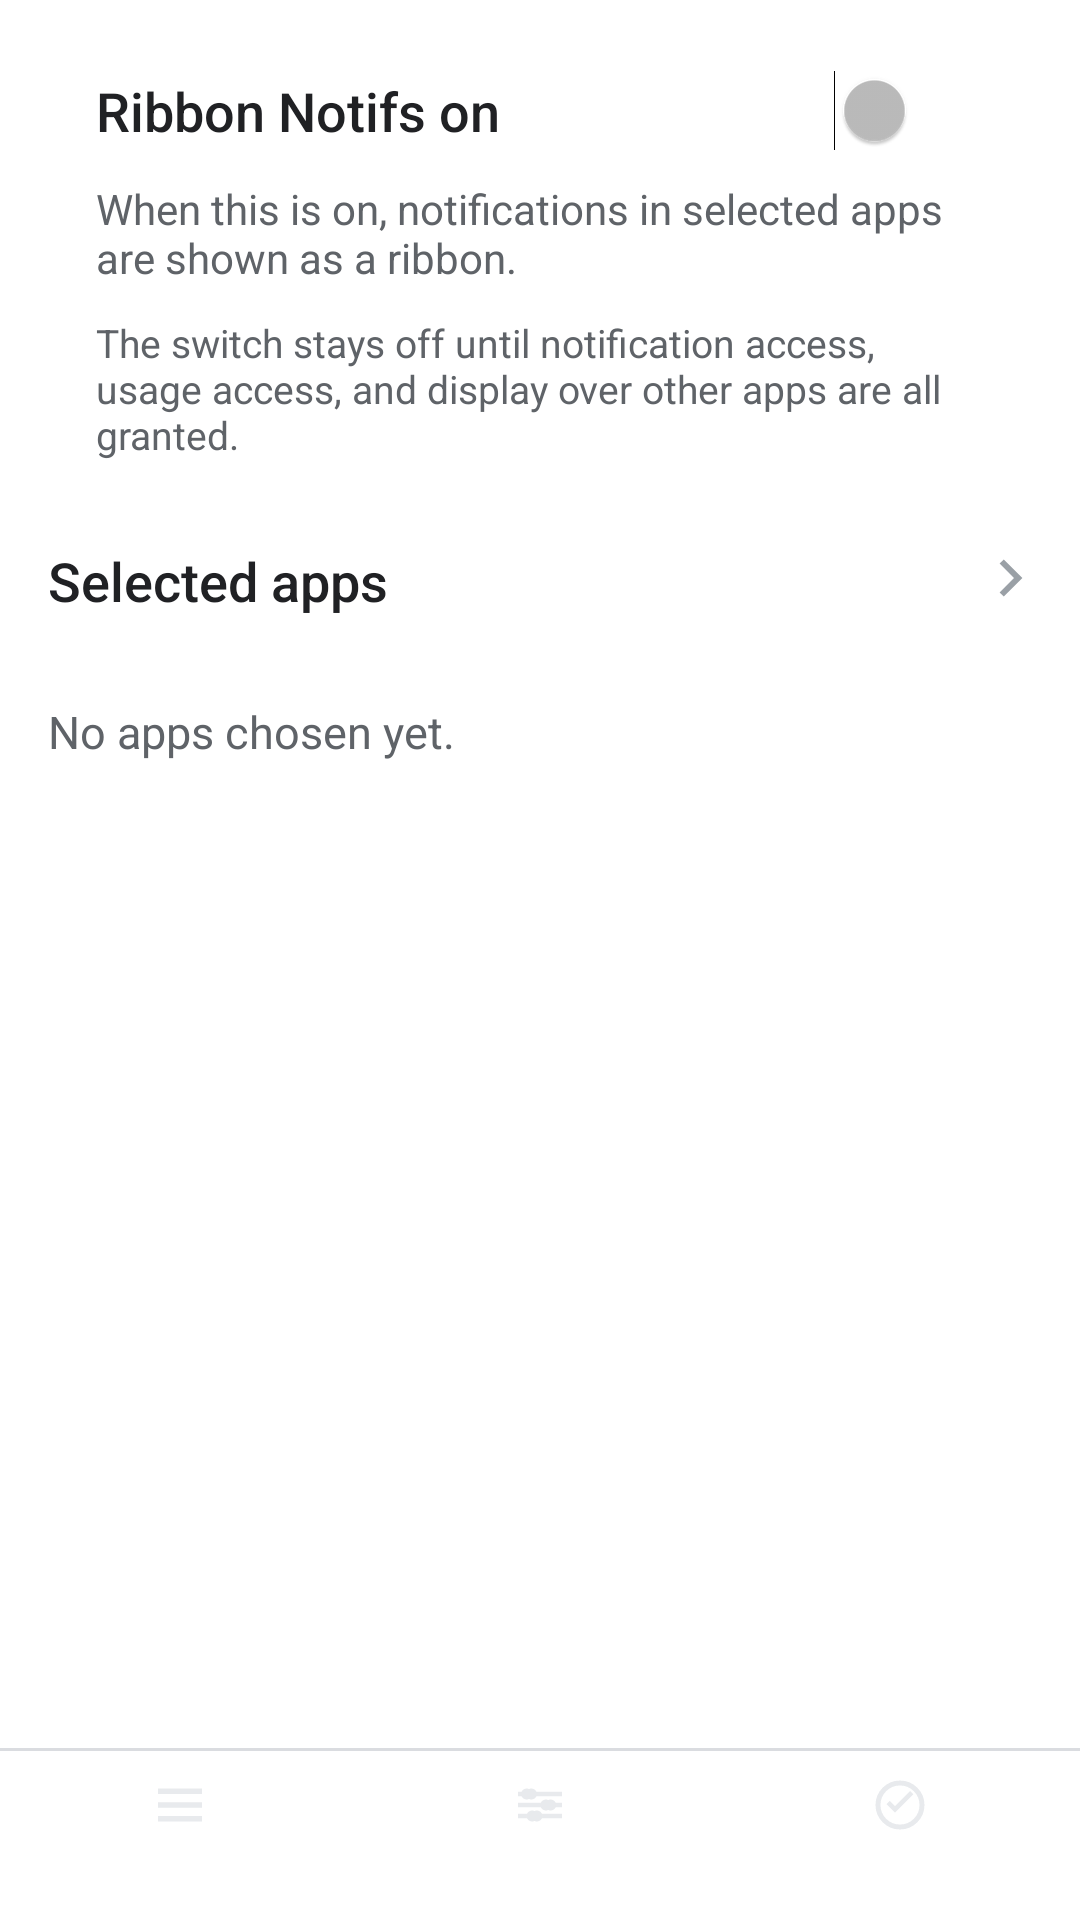

Named icons in this screenshot (1080px x 1920px) and their centers, [x,y]:
chevron: [1011,578]
